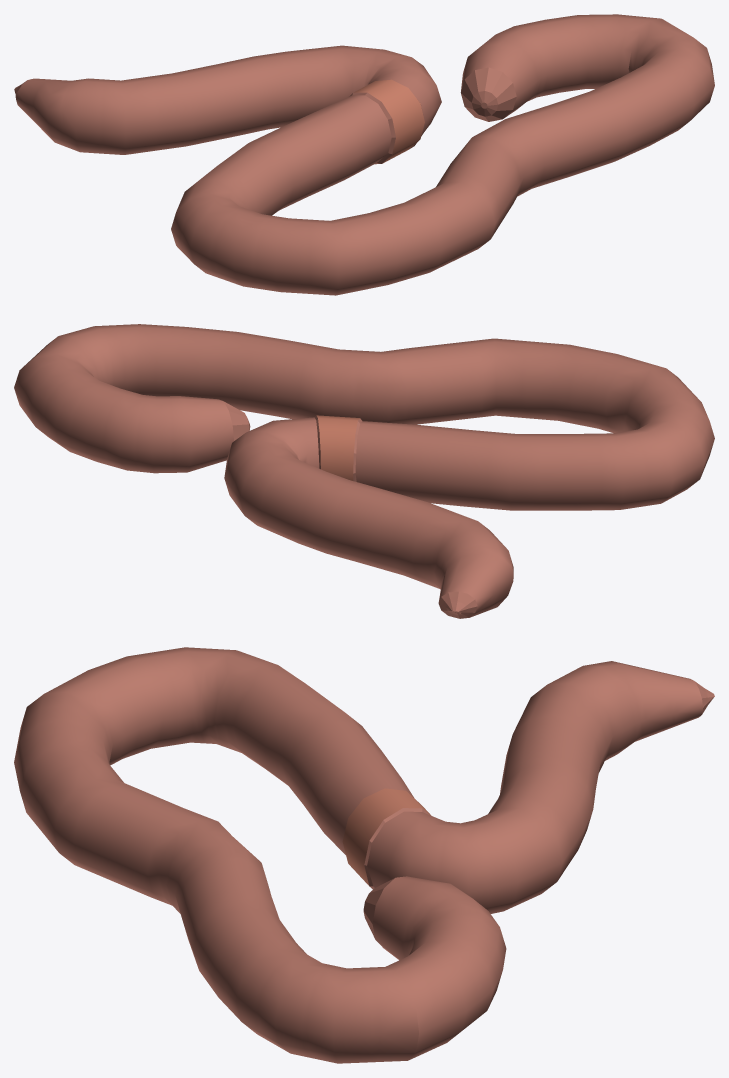
Rendered from 40d525c4-6aac-4a00-88df-c7610a73f608.glb.
3 views of the same model, one above another, from view 1: azimuth 30°, elevation 25°; view 2: azimuth 150°, elevation 25°; view 3: azimuth 270°, elevation 25° (orthographic). The views are drawn at different scales.
Parts seen in each view (by area): view 1: Line001; view 2: Line001; view 3: Line001.
Boxes of the visible parts, x1,y1,x2,y2 form: Line001: (14, 14, 714, 295); Line001: (14, 324, 714, 618); Line001: (14, 647, 714, 1063).
Size of the model in its own units: 79.24 by 9.36 by 64.8.
